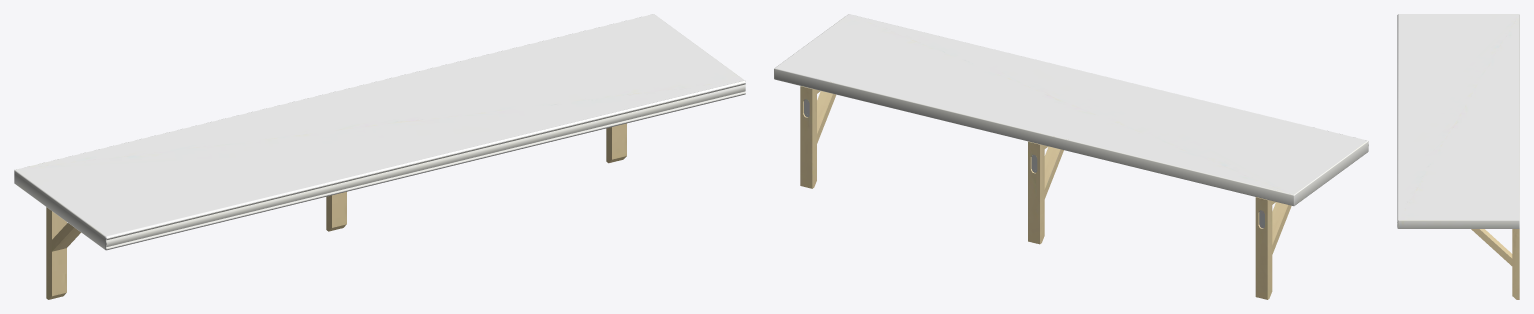
3 views of the same model, side by side, from view 1: azimuth 30°, elevation 25°; view 2: azimuth 150°, elevation 25°; view 3: azimuth 270°, elevation 25° (orthographic). The views are drawn at different scales.
Parts seen in each view (by area): view 1: bergshult-sandshult-120.001; view 2: bergshult-sandshult-120.001; view 3: bergshult-sandshult-120.001.
Boxes of the visible parts, x1=… form: bergshult-sandshult-120.001: x1=14, y1=14, x2=745, y2=299; bergshult-sandshult-120.001: x1=774, y1=14, x2=1368, y2=299; bergshult-sandshult-120.001: x1=1397, y1=14, x2=1519, y2=299.
Bounding box in the file's own units: 1.2 × 0.2449 × 0.2999.
Materials: 1 (1 with a texture image).
